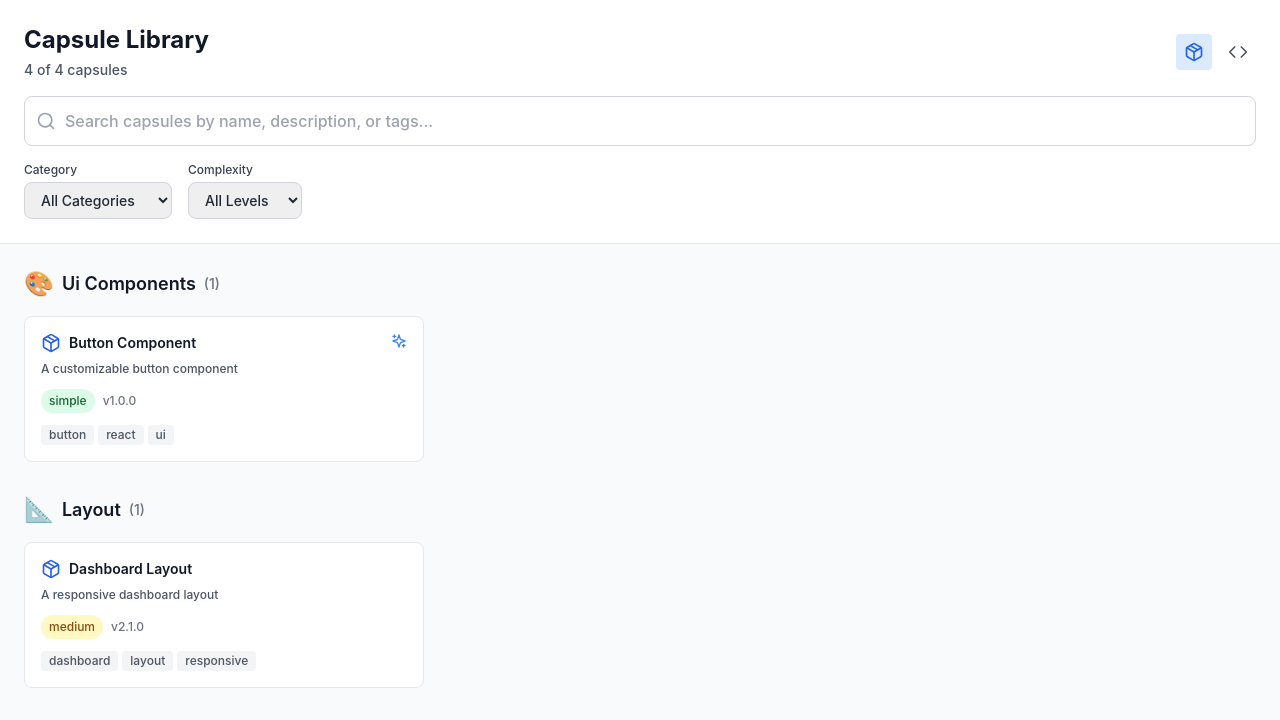
Test case: CapsuleBrowser › search functionality › should filter capsules by description
This screenshot has width=1280, height=720.
Type "responsive" into the field with placeholder "Search capsules by name, description, or tags..." at [640, 121], box [24,96,1256,146]
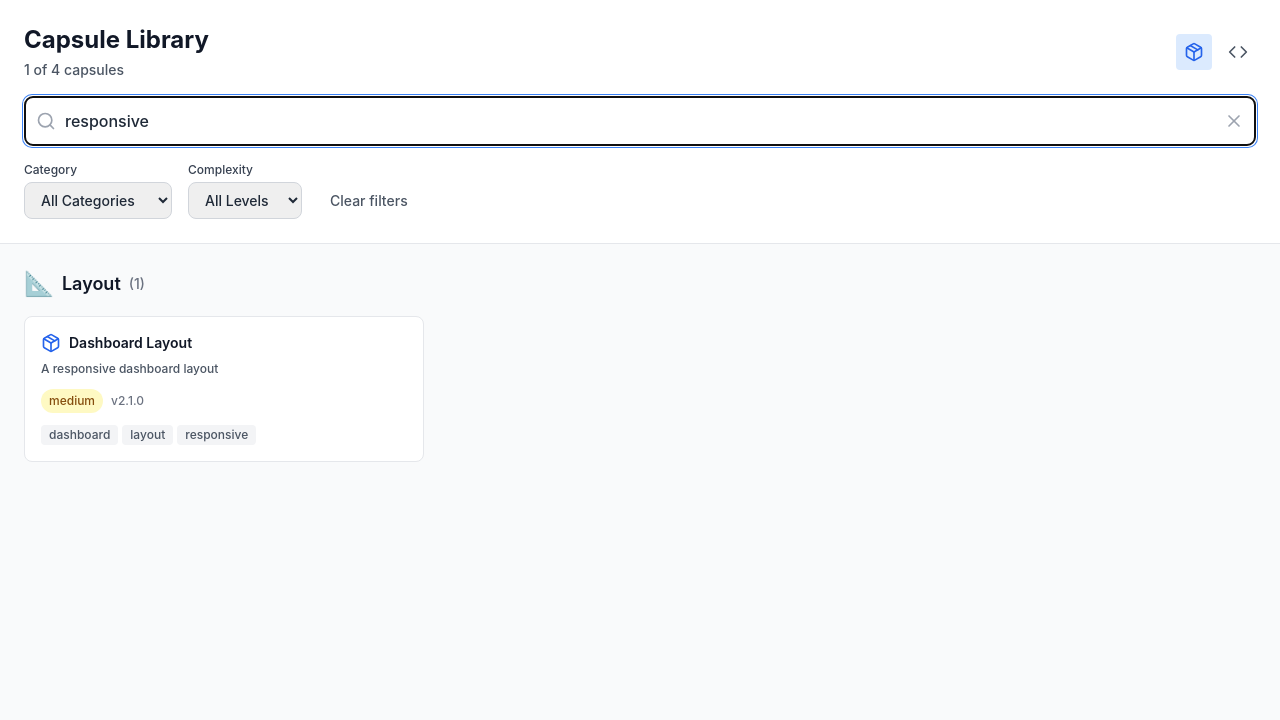
Check: the heading "Dashboard Layout" is shown, box [69,333,192,353]
Check: the heading "Button Component" is gone
